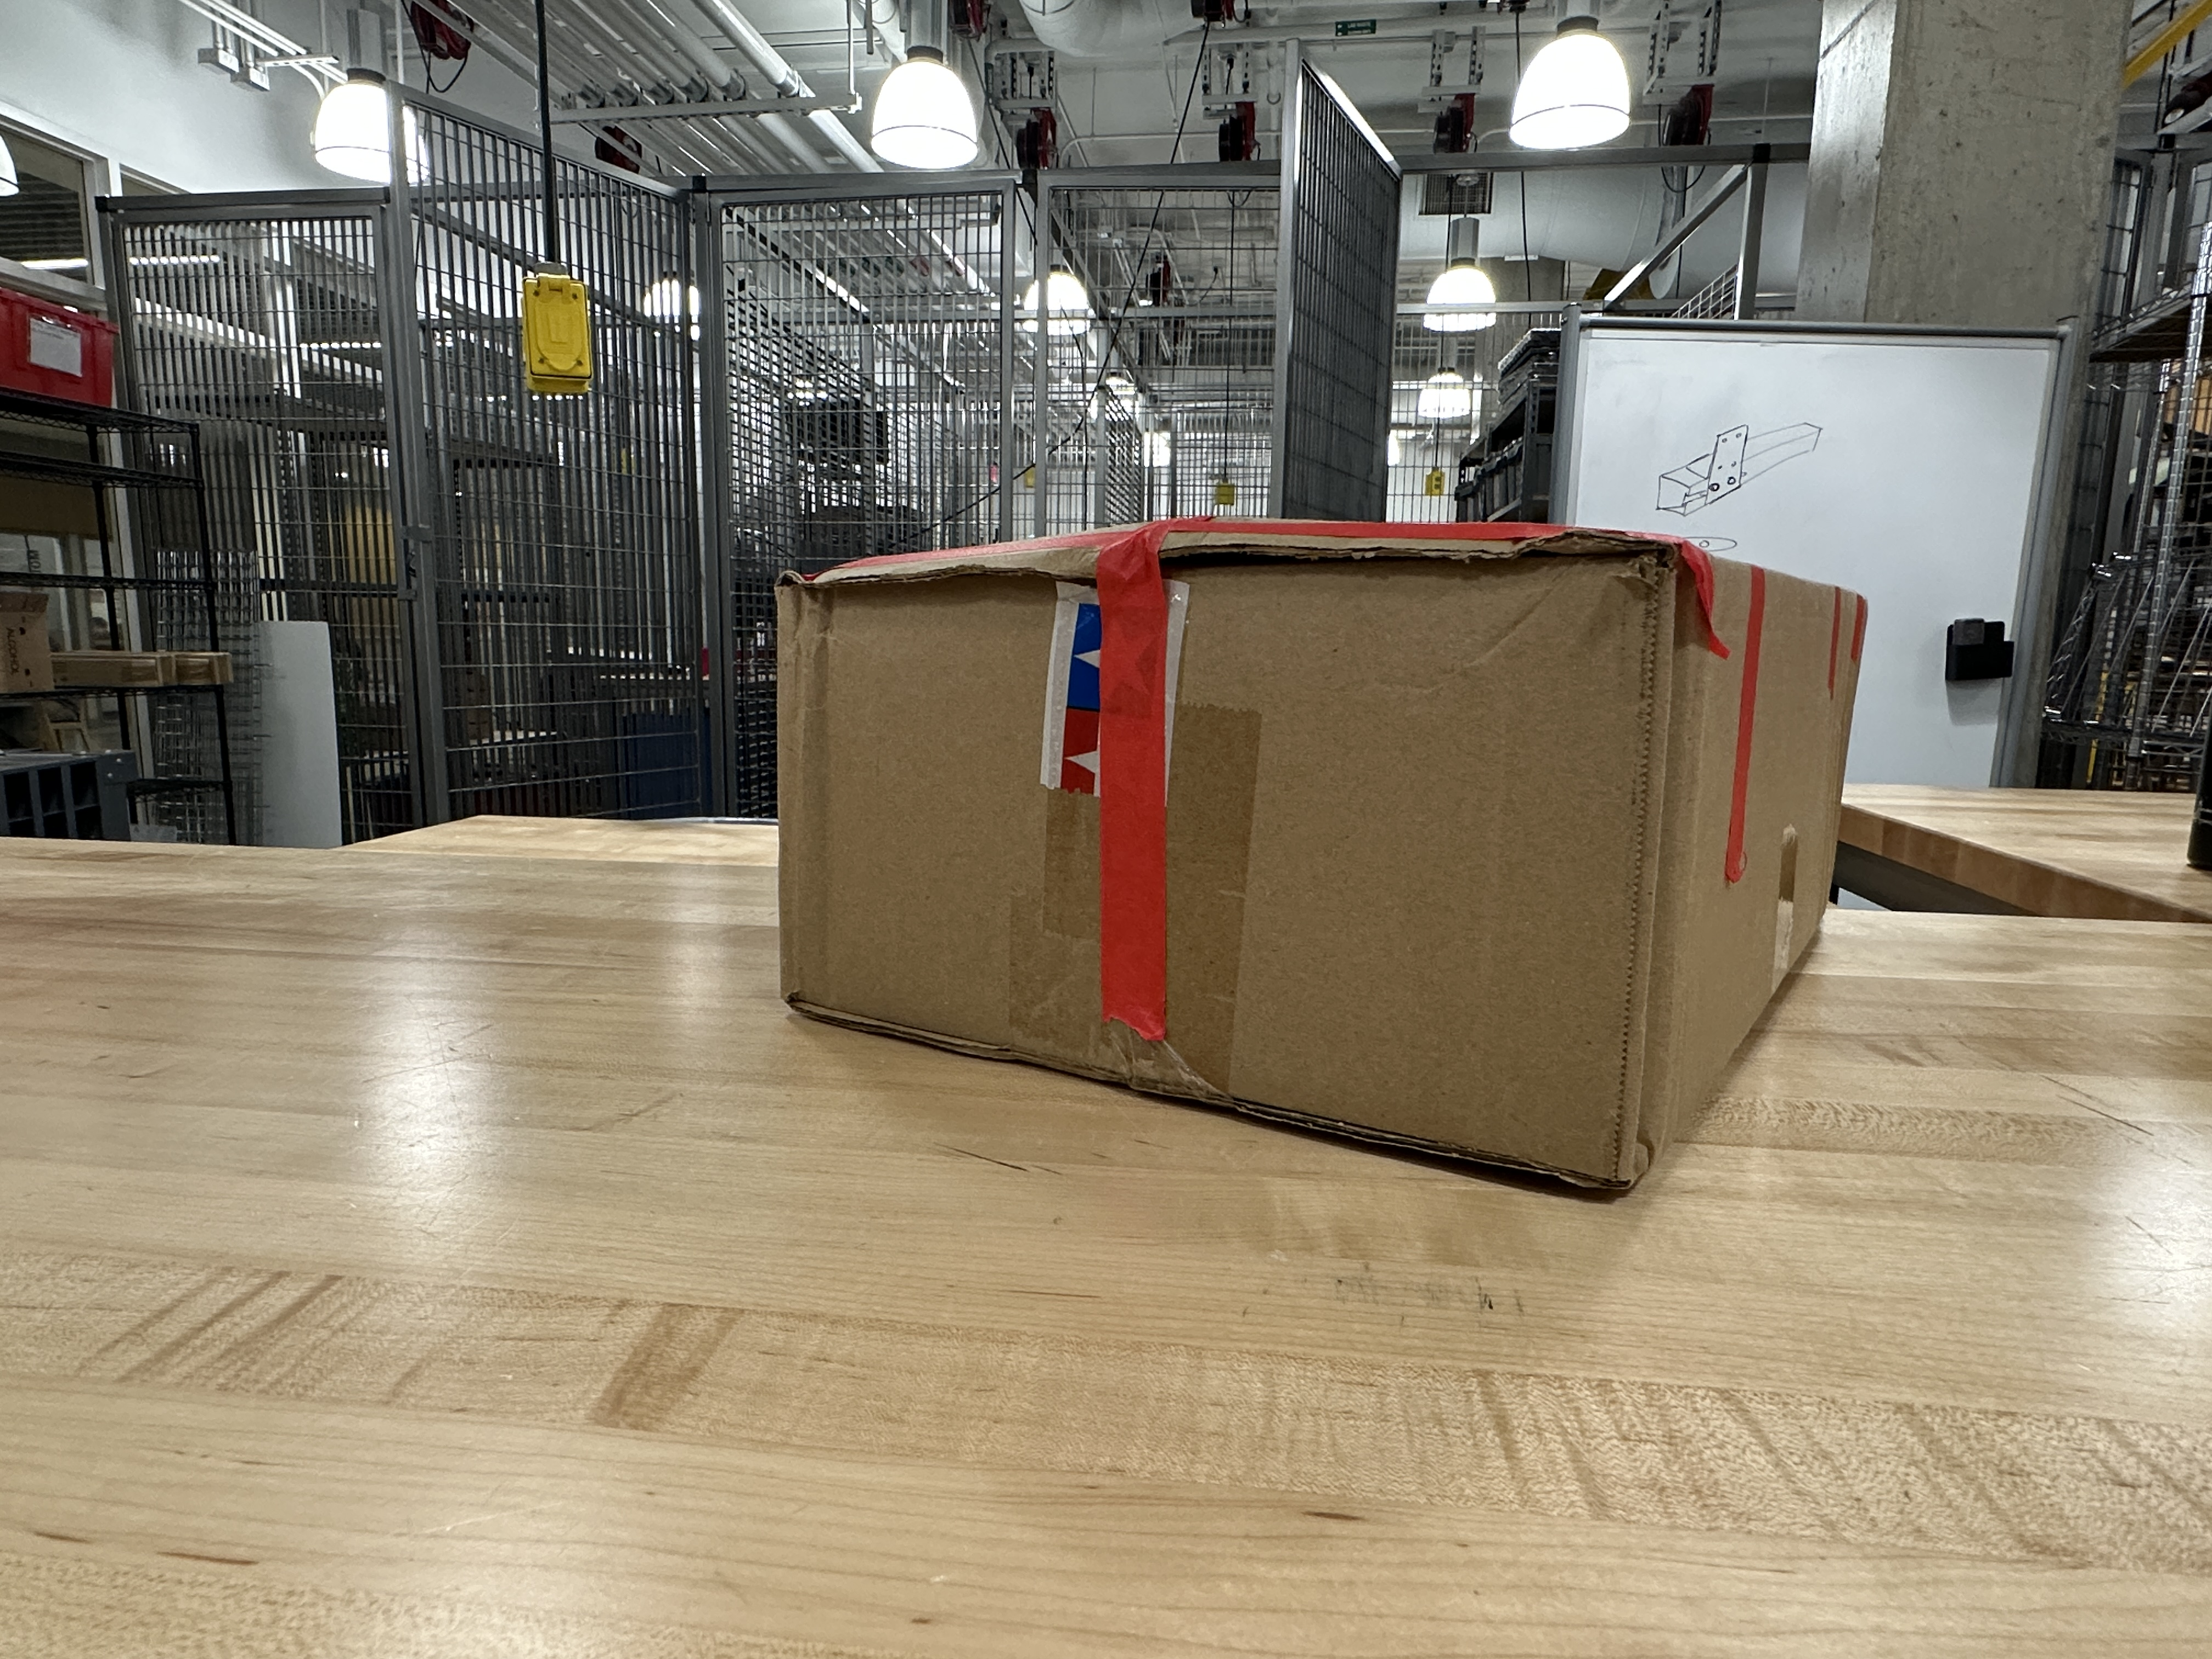Box_Obstacle: (756, 507, 1879, 1229)
